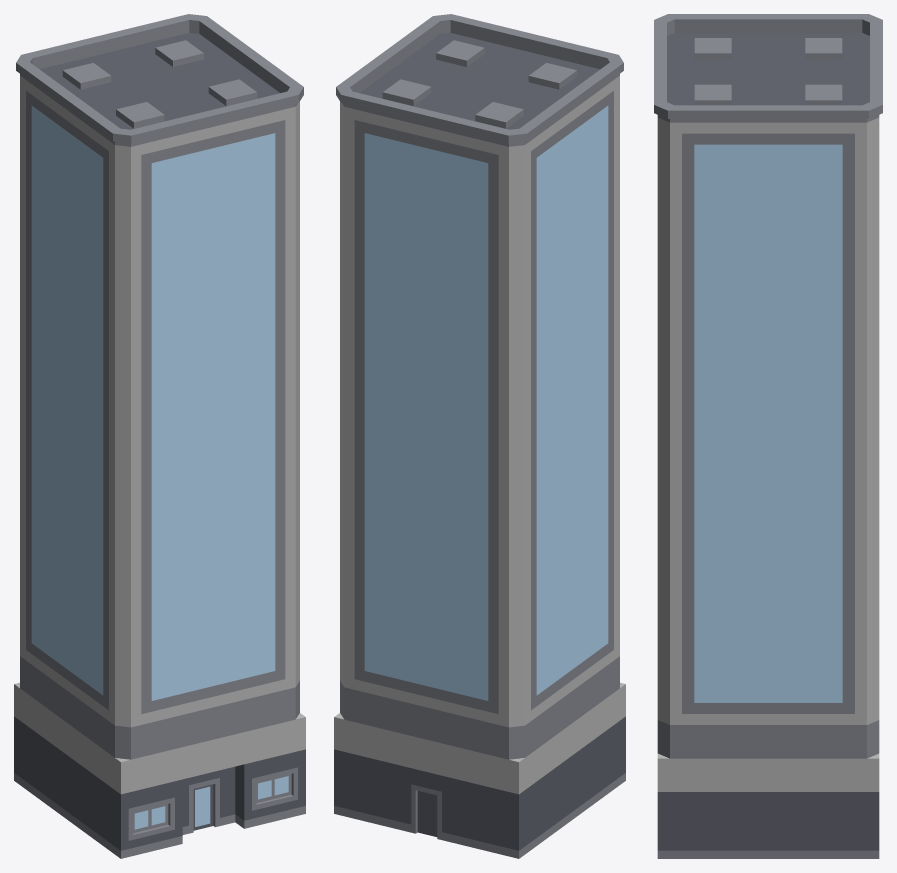
The model's file is Skyscraper B.glb.
The picture shows the model from 3 angles, left to right: view 1: azimuth 30°, elevation 25°; view 2: azimuth 150°, elevation 25°; view 3: azimuth 270°, elevation 25°; orthographic projection. The views are drawn at different scales.
Parts seen in each view (by area): view 1: skyscraperB; view 2: skyscraperB; view 3: skyscraperB.
Part boxes in pixels (x1,y1,x2,y2): skyscraperB: (14,14,305,858); skyscraperB: (334,14,625,858); skyscraperB: (654,14,882,858).
Bounding box in the file's own units: 1.24 × 4.48 × 1.24.
